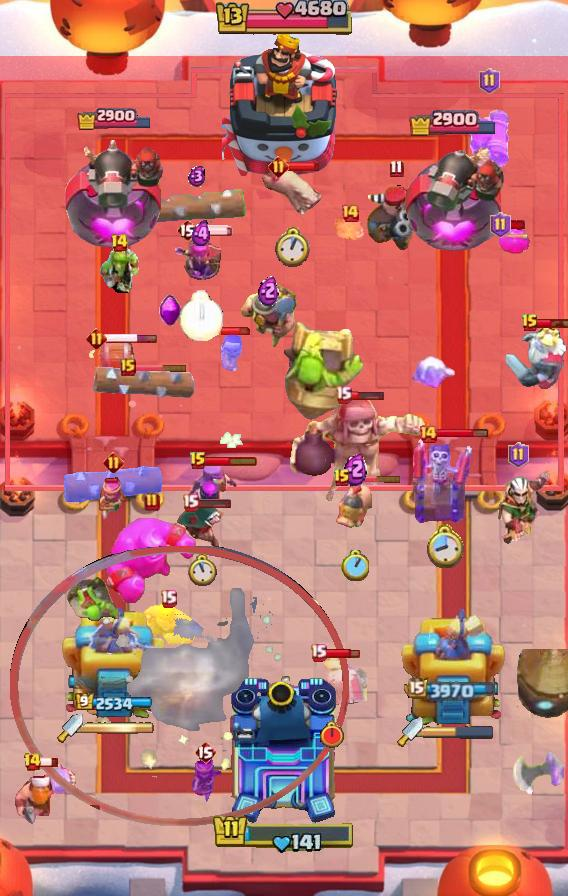archer: (187, 755, 223, 803), (97, 477, 129, 521)
archer-evolution: (175, 235, 227, 293)
axe: (512, 750, 564, 800)
bandit: (177, 501, 227, 549)
bar: (205, 455, 258, 467), (104, 333, 158, 344), (436, 428, 489, 439), (348, 474, 402, 483), (134, 363, 188, 372), (196, 224, 234, 236), (196, 497, 232, 509), (325, 647, 360, 659), (350, 389, 385, 401), (286, 161, 320, 172), (537, 317, 568, 329), (221, 326, 253, 336), (39, 756, 59, 768), (508, 219, 527, 231)
bar-level: (508, 442, 529, 468), (490, 212, 511, 238), (479, 68, 500, 94), (194, 740, 216, 764), (176, 218, 198, 242), (103, 452, 124, 473), (86, 328, 107, 349), (268, 156, 289, 177), (418, 424, 438, 444), (340, 203, 360, 223), (23, 752, 42, 772), (110, 233, 129, 253), (333, 468, 351, 488), (189, 451, 207, 471), (521, 313, 539, 333), (310, 643, 327, 662), (160, 589, 177, 608), (182, 493, 199, 512), (335, 385, 352, 404), (144, 492, 160, 512), (120, 358, 136, 376), (389, 159, 404, 178)
barbarian: (140, 602, 196, 648)
cannoneer-tower: (61, 132, 168, 256), (402, 136, 504, 256)
clock: (179, 290, 223, 341), (424, 522, 464, 568), (275, 227, 310, 268), (188, 554, 217, 587), (341, 550, 369, 581), (319, 721, 345, 749)
dagger-duchess-tower: (401, 601, 505, 731), (60, 607, 168, 731)
dagger-duchess-tower-bar: (423, 725, 495, 739), (83, 721, 155, 735)
elixir: (343, 452, 367, 486), (258, 274, 279, 306), (191, 220, 212, 248), (188, 165, 206, 187)
elixir-golem-small: (499, 224, 531, 254)
evolution-symbol: (158, 294, 181, 328)
firecracker-evolution: (465, 96, 513, 176)
goblin: (97, 246, 141, 296)
goblin-ball: (65, 574, 123, 622)
hog: (259, 165, 325, 219)
hunter: (365, 183, 427, 251)
ice-spirit-evolution: (407, 356, 457, 394)
king-tower: (222, 31, 346, 181), (228, 676, 340, 826)
king-tower-bar: (212, 813, 356, 855), (213, 0, 355, 38)
lava-pup: (333, 217, 367, 243)
lumberjack: (13, 763, 77, 827)
miner: (237, 282, 299, 352)
mother-witch: (183, 459, 239, 525)
royal-ghost: (504, 323, 568, 395), (297, 652, 367, 710)
royal-hog: (335, 480, 375, 532)
skeleton-evolution: (214, 333, 246, 375)
the-log: (89, 366, 196, 402), (147, 186, 247, 224), (61, 466, 163, 502)
tower-bar: (408, 108, 498, 136), (408, 678, 498, 701), (76, 106, 153, 130), (75, 693, 153, 713)
wall-breaker: (87, 337, 137, 393)
